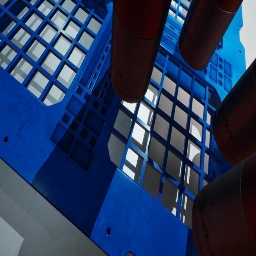NitrogenTank ,: (192, 152, 256, 256), (110, 0, 172, 104), (212, 58, 256, 166), (179, 0, 243, 71)
